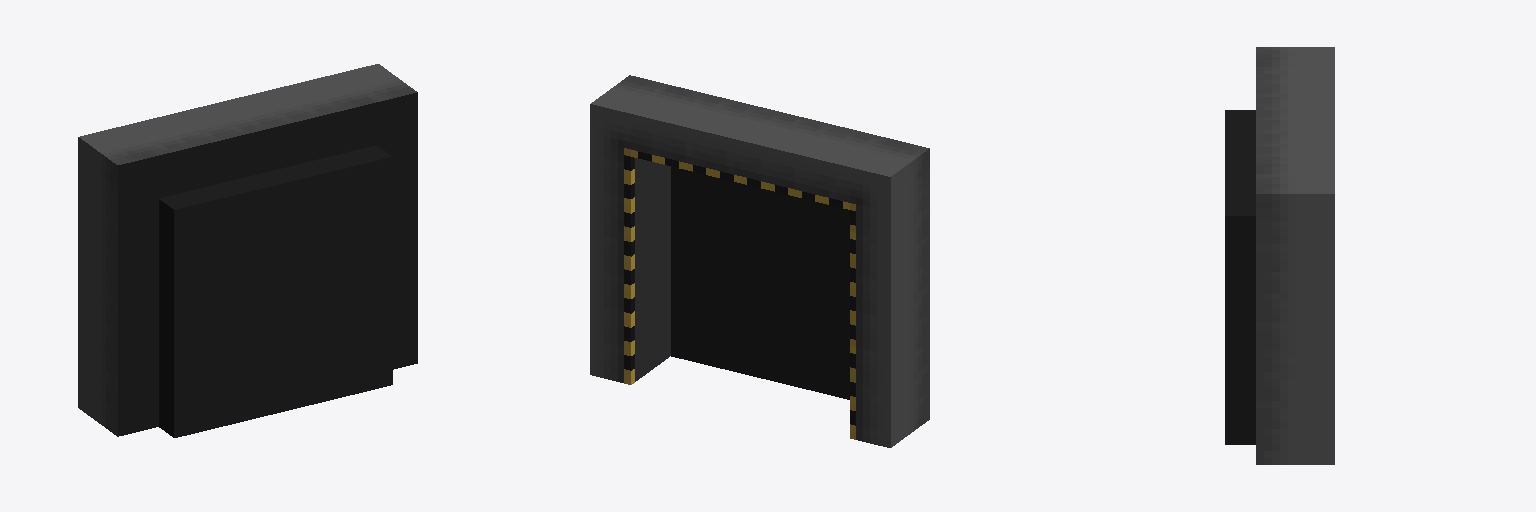
3 renders of one model, left to right at view 1: azimuth 30°, elevation 25°; view 2: azimuth 150°, elevation 25°; view 3: azimuth 270°, elevation 25°, orthographic.
Visible parts, largest first — view 1: cuboid; view 2: cuboid; view 3: cuboid.
Part boxes in pixels (x1,y1,x2,y2): cuboid: (78, 64, 417, 437); cuboid: (590, 75, 929, 447); cuboid: (1225, 47, 1334, 464).
Bounding box in the file's own units: 1.38 × 1.19 × 0.4375.
Materials: 1 (1 with a texture image).